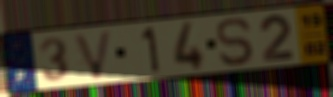1: (140, 26, 162, 75)
2: (258, 12, 298, 65)
3: (37, 35, 71, 84)
4: (171, 20, 208, 73)
S: (215, 16, 258, 68)
V: (72, 28, 115, 81)
